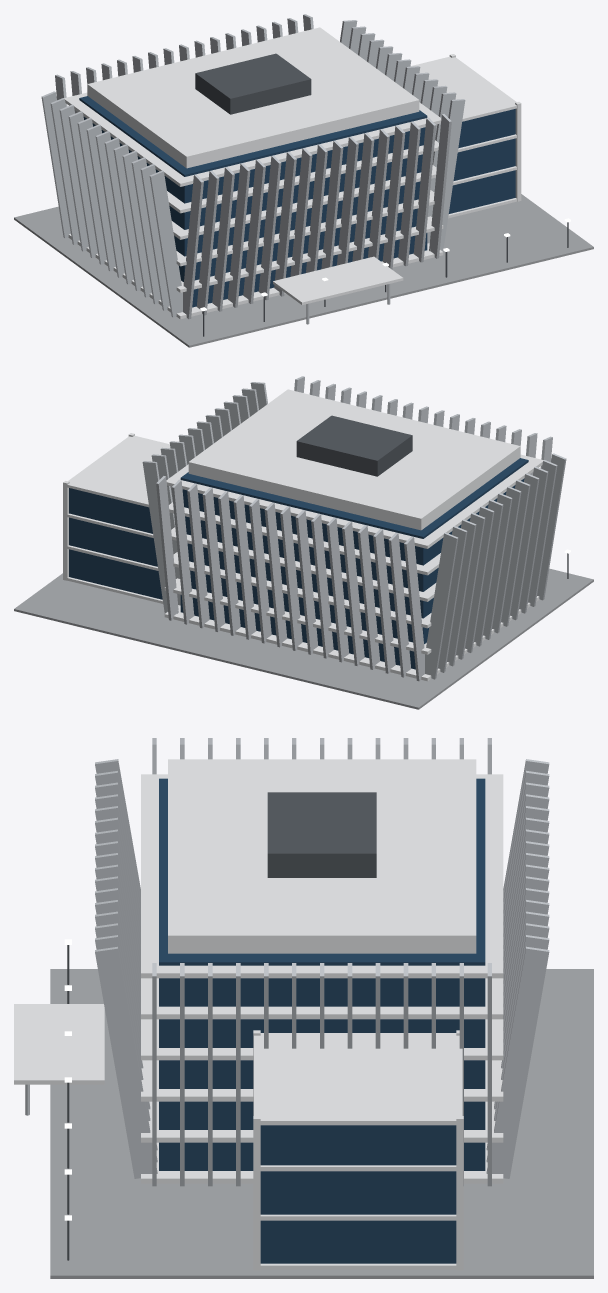
The model's file is casino-montreal.glb.
3 renders of one model, top to bottom at view 1: azimuth 30°, elevation 25°; view 2: azimuth 150°, elevation 25°; view 3: azimuth 270°, elevation 25°, orthographic. The views are drawn at different scales.
Parts seen in each view (by area): view 1: casino-montreal; view 2: casino-montreal; view 3: casino-montreal.
Part boxes in pixels (x1,y1,x2,y2): casino-montreal: (14, 14, 593, 347); casino-montreal: (14, 376, 593, 709); casino-montreal: (14, 738, 593, 1278).
Size of the model in its own units: 81.07 by 32.2 by 64.
